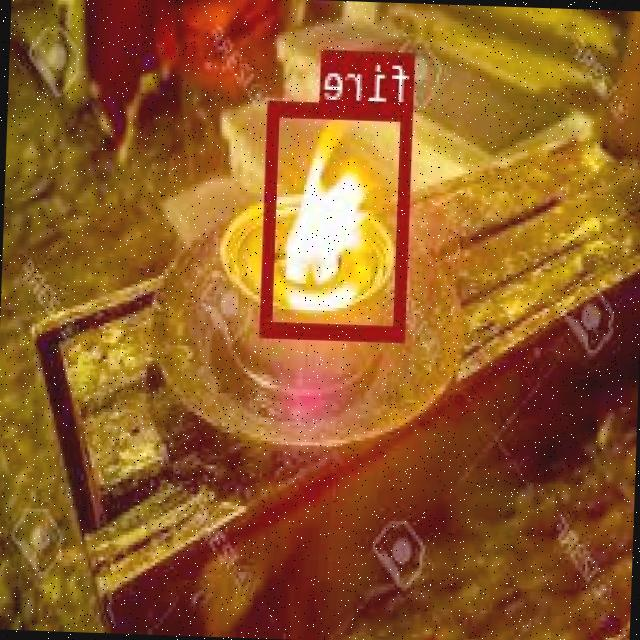fire: (264, 100, 414, 336)
